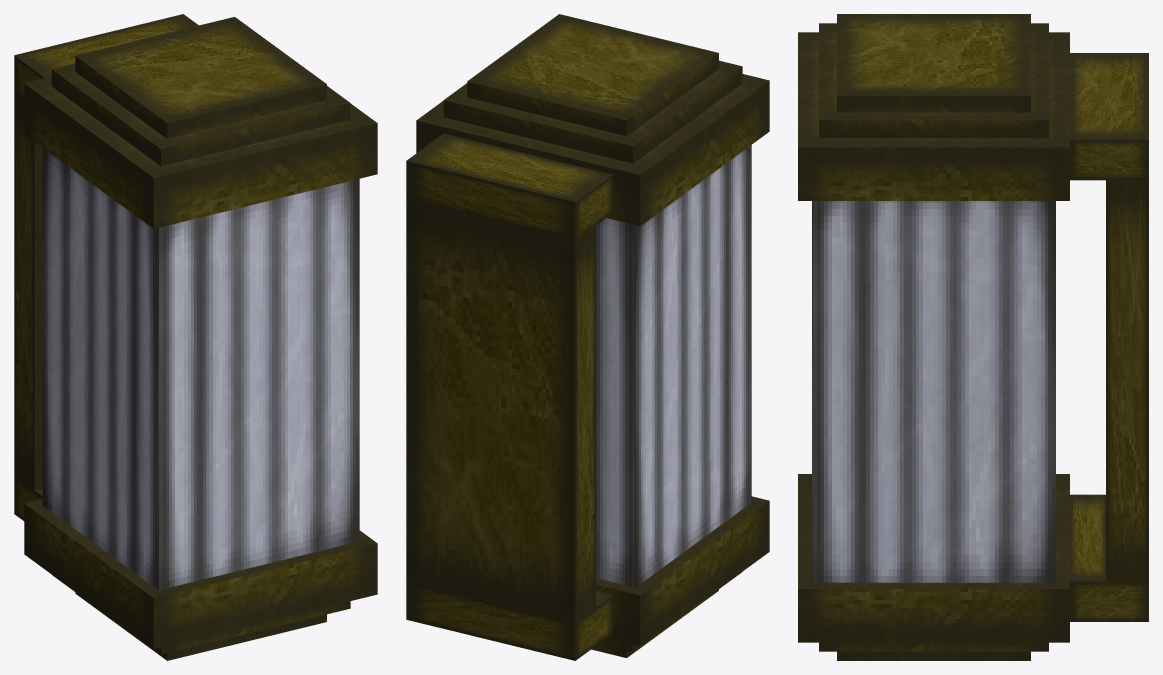
Rendered from Art Deco Fixture 2.fbx.
3 views of the same model, side by side, from view 1: azimuth 30°, elevation 25°; view 2: azimuth 150°, elevation 25°; view 3: azimuth 270°, elevation 25° (orthographic). The views are drawn at different scales.
Visible parts, largest first — view 1: Cube.001, Cube; view 2: Cube, Cube.001; view 3: Cube, Cube.001.
Part boxes in pixels (x1,y1,x2,y2): Cube.001: [42, 148, 359, 590]; Cube: [14, 14, 377, 660]; Cube: [406, 14, 769, 660]; Cube.001: [596, 145, 751, 587]; Cube: [798, 14, 1148, 660]; Cube.001: [812, 201, 1055, 582].
Size of the model in its own units: 0.223 by 0.2878 by 0.5115.
